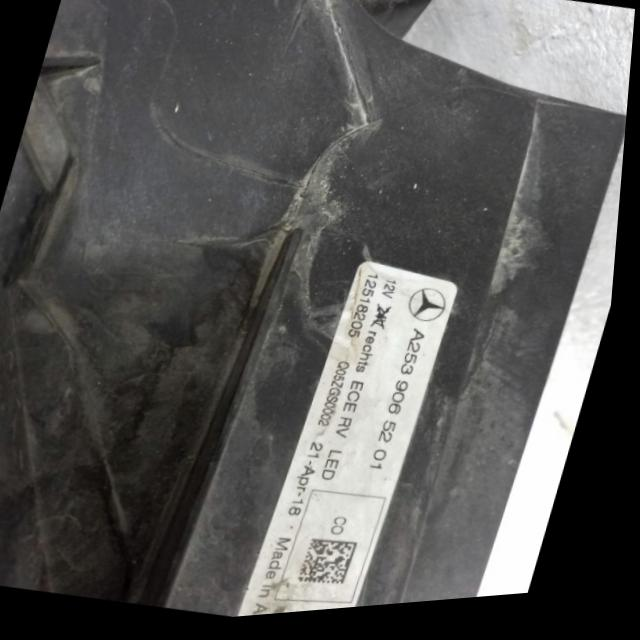datamatrix: (307, 541, 367, 597)
